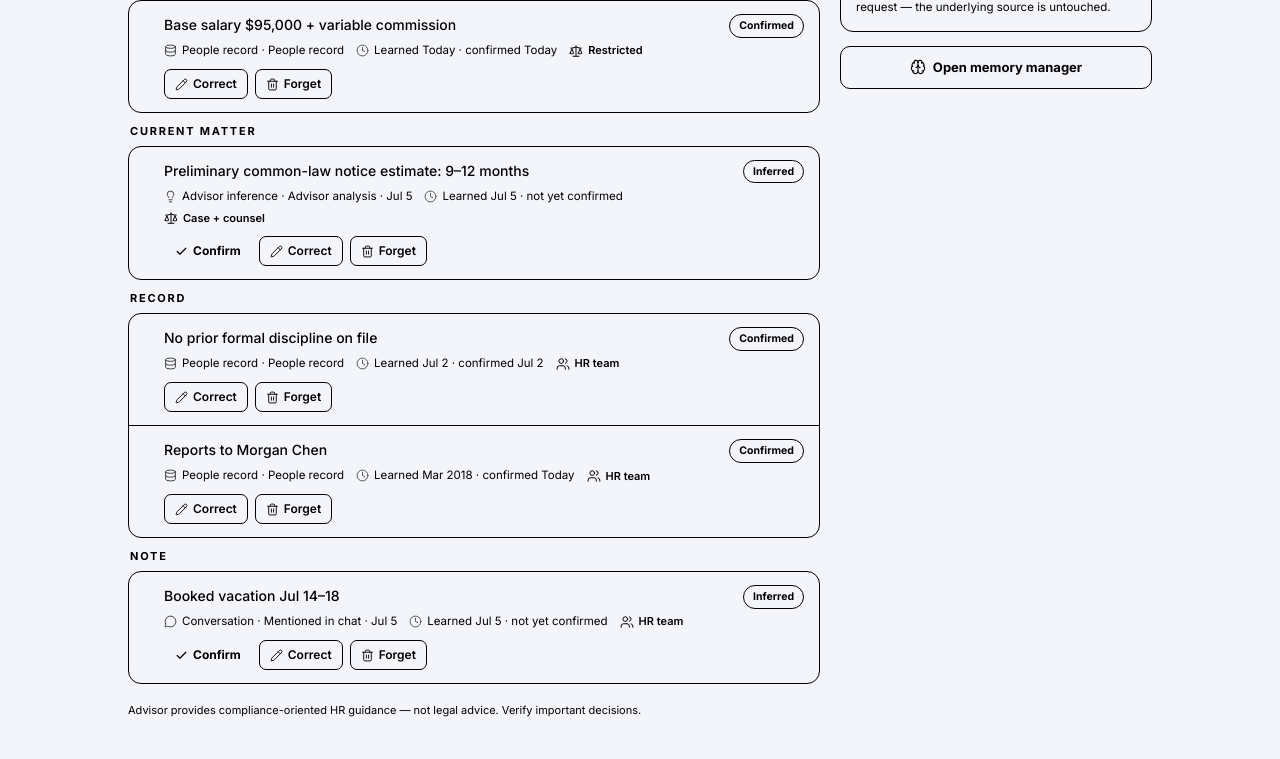
Test: Advisor Memory surfaces › PersonMemoryView › Forget removes the memory row
The width and height of the screenshot is (1280, 759).
(page scrolled)
Expected: the text "Booked vacation Jul 14–18" is shown, [164,587,340,604]
Click the button "Forget" below "Mentioned in chat · Jul 5" at (388, 655), box [350,640,427,670]
(page scrolled)
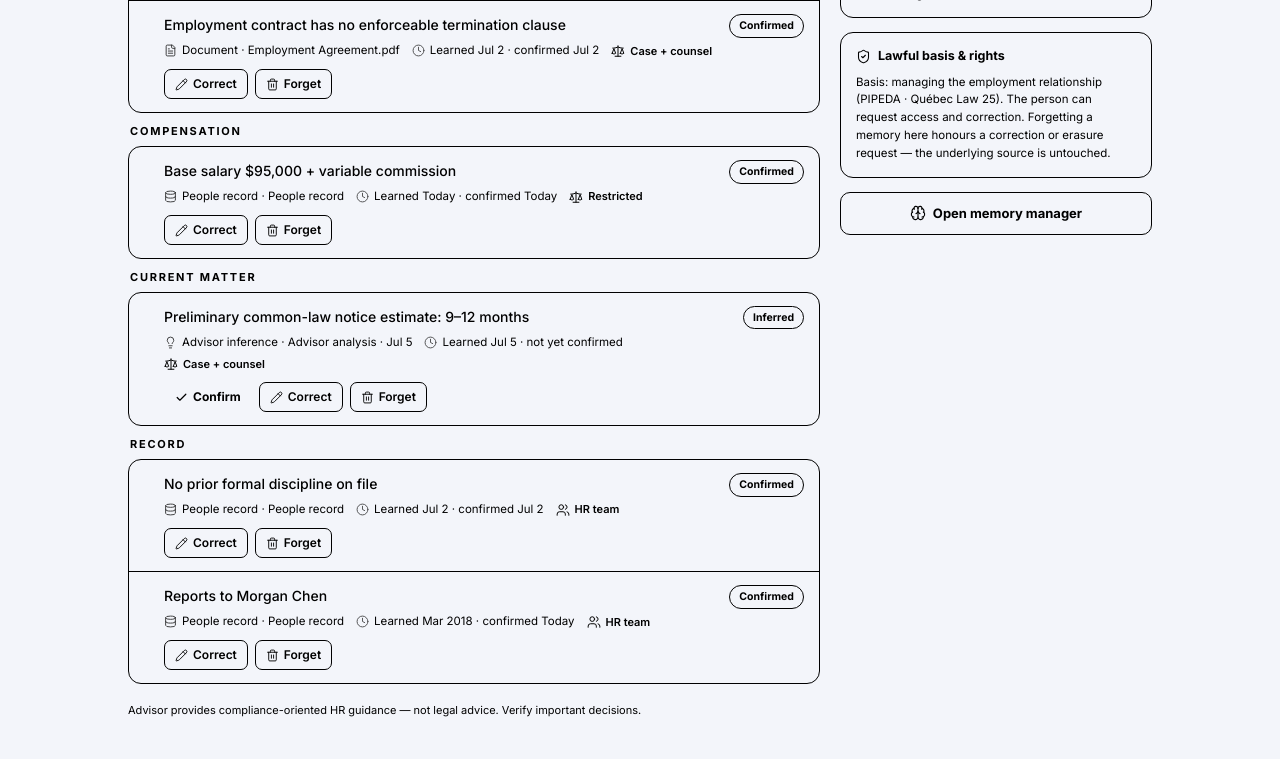
Expected: the text "Booked vacation Jul 14–18" is gone
